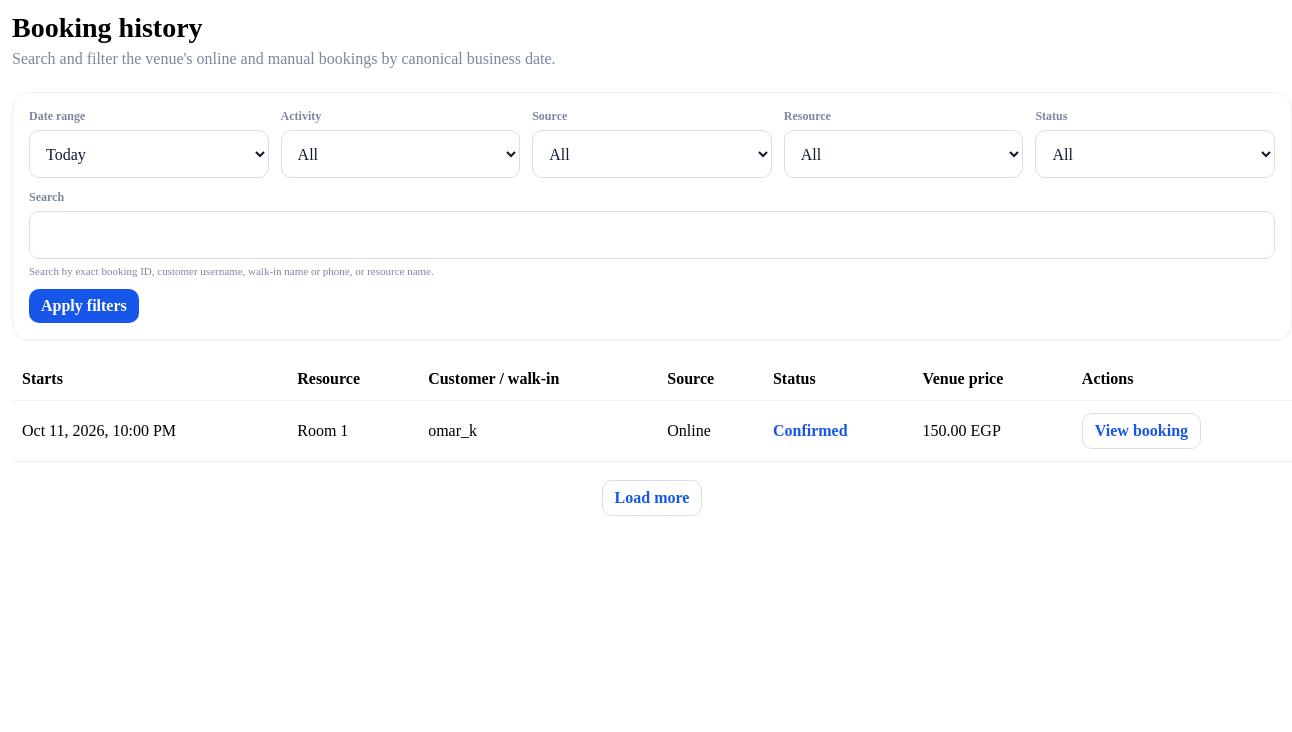
Test case: Booking history › uses the returned cursor to load more
This screenshot has width=1292, height=732.
Click the button "Load more" at x=652, y=498, box [602,480,702,516]
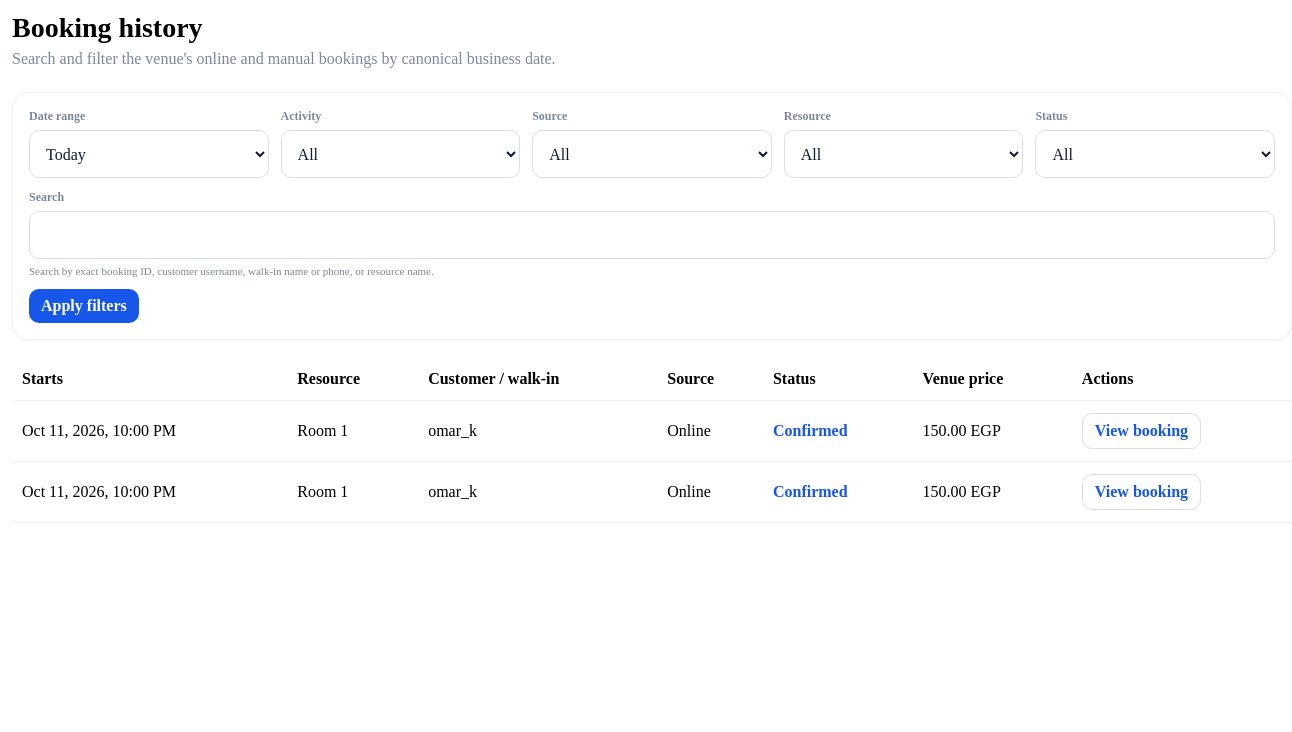
Now the text "omar_k" is shown 2 times, box [418,400,657,462]; [418,462,657,522]
